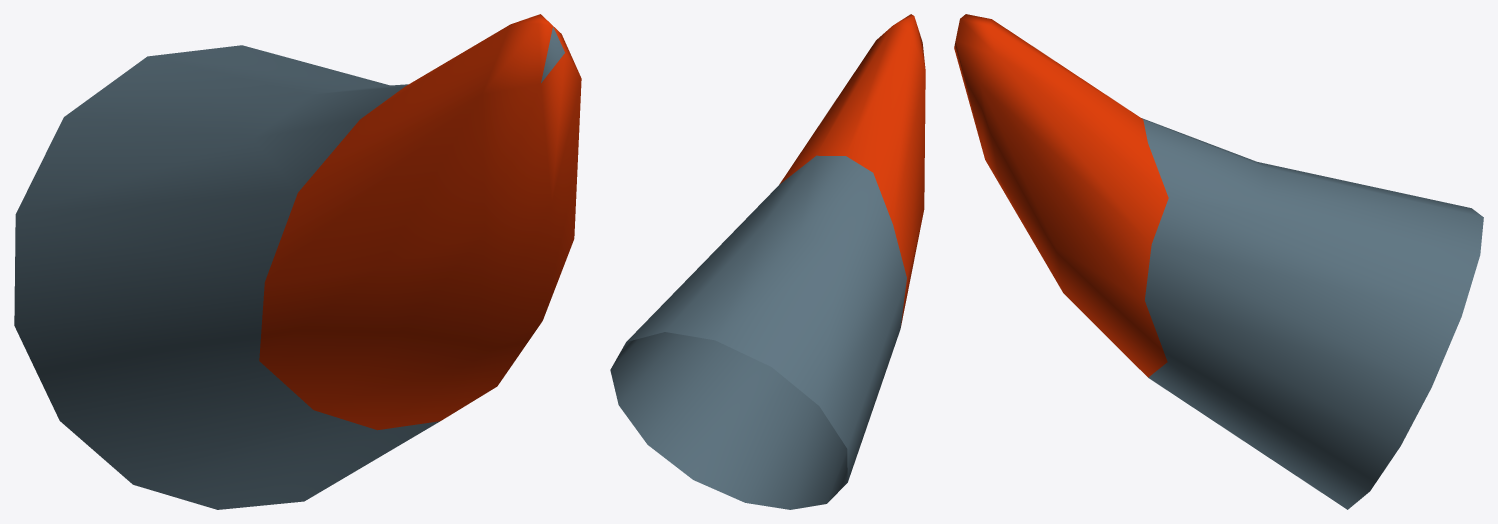
The model's file is Nose_Horn.glb.
3 views of the same model, side by side, from view 1: azimuth 30°, elevation 25°; view 2: azimuth 150°, elevation 25°; view 3: azimuth 270°, elevation 25° (orthographic). The views are drawn at different scales.
Parts seen in each view (by area): view 1: Nose_Horn; view 2: Nose_Horn; view 3: Nose_Horn.
Boxes of the visible parts, x1=… form: Nose_Horn: x1=14, y1=14, x2=581, y2=509; Nose_Horn: x1=610, y1=14, x2=925, y2=509; Nose_Horn: x1=954, y1=14, x2=1483, y2=509.
Size of the model in its own units: 0.252 by 0.3942 by 0.4002.
1 material, 1 textured.
